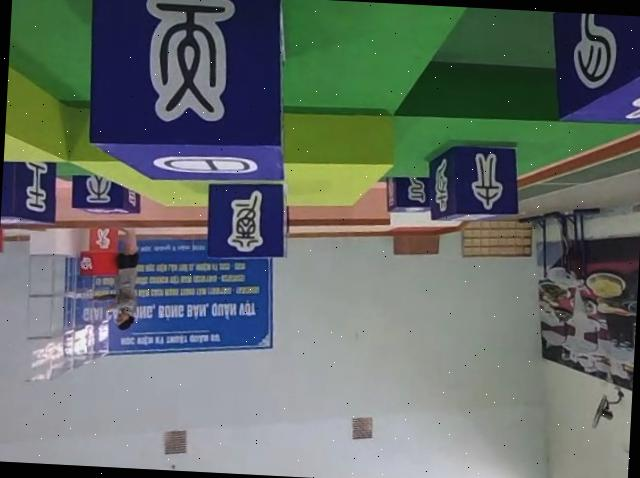R2 Fake Blue: (81, 0, 288, 191), (548, 12, 640, 122), (428, 142, 524, 226), (203, 176, 290, 259), (1, 157, 57, 227), (68, 172, 141, 216), (383, 175, 434, 216)
